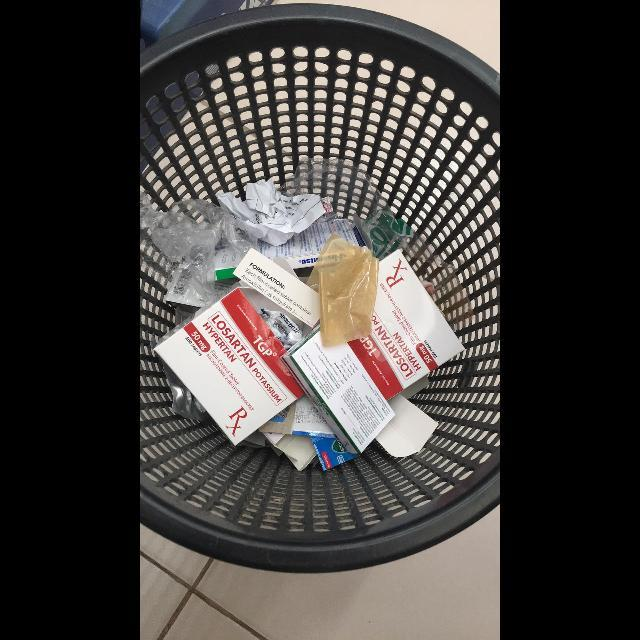paper: (154, 284, 304, 446), (347, 250, 465, 401), (282, 323, 396, 455), (258, 394, 358, 472), (215, 178, 326, 247), (232, 248, 320, 328), (258, 219, 359, 269), (375, 395, 439, 458), (213, 247, 242, 280)
plastic: (140, 194, 253, 308)
